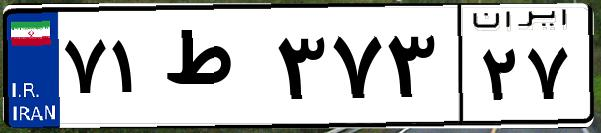1: (110, 28, 158, 98)
2: (475, 38, 525, 113)
3: (270, 28, 330, 110), (385, 28, 445, 110)
7: (330, 28, 385, 110), (57, 26, 110, 100), (525, 38, 570, 115)
ط: (158, 20, 270, 120)
